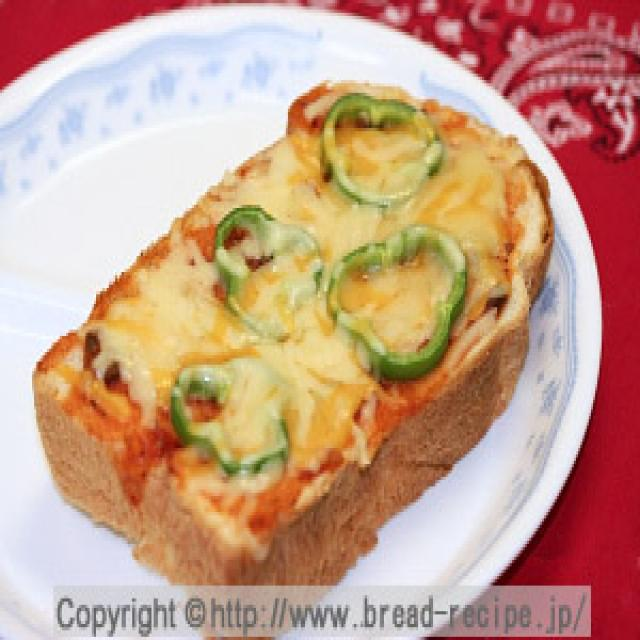面包点心: (40, 105, 557, 586)
